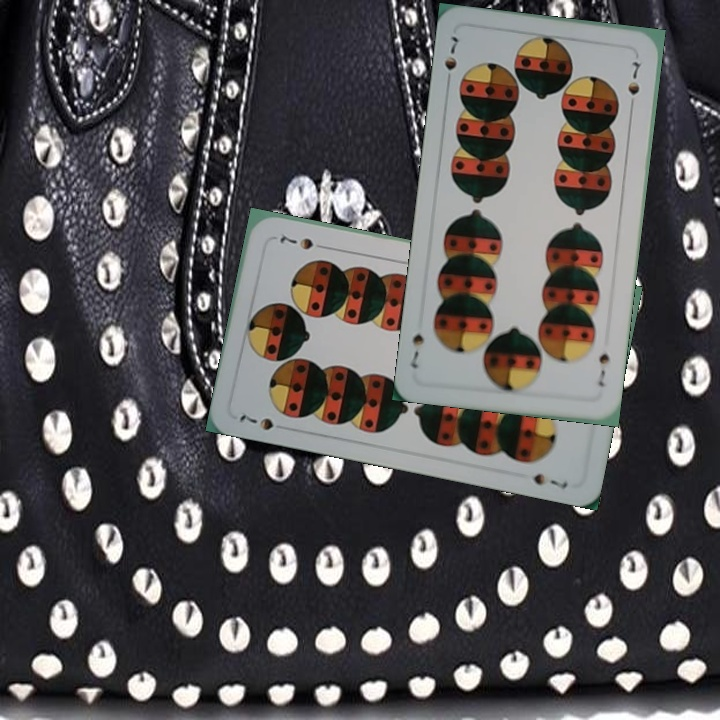S7: (441, 32, 462, 88), (235, 410, 277, 433), (594, 349, 612, 389)
